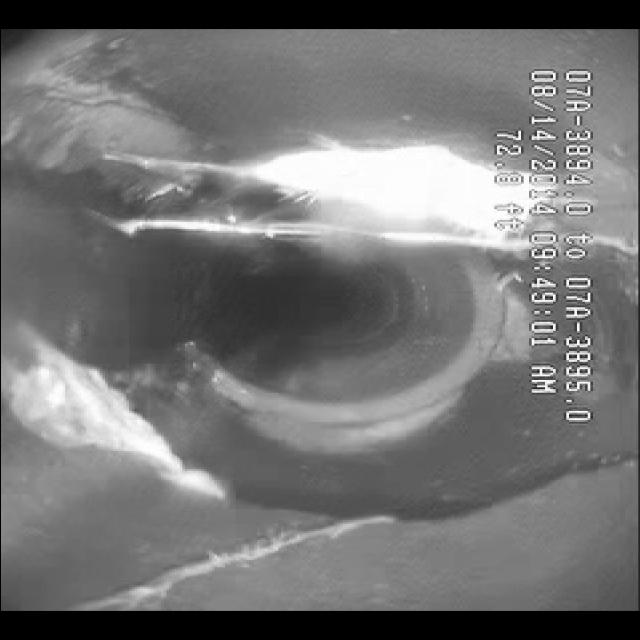Fracture: (120, 476, 540, 606)
